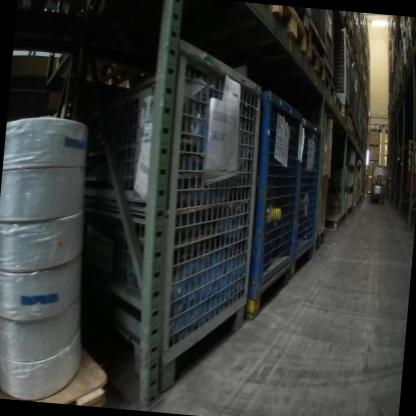pallet: (0, 342, 119, 405), (247, 7, 313, 59), (296, 37, 329, 83), (310, 55, 341, 101), (322, 209, 345, 237), (316, 223, 331, 253), (342, 27, 356, 48), (343, 111, 355, 135), (370, 194, 389, 209), (335, 109, 350, 127), (369, 175, 388, 188), (410, 19, 416, 51)
stillage: (32, 20, 274, 402), (160, 78, 313, 338), (283, 114, 329, 292)
